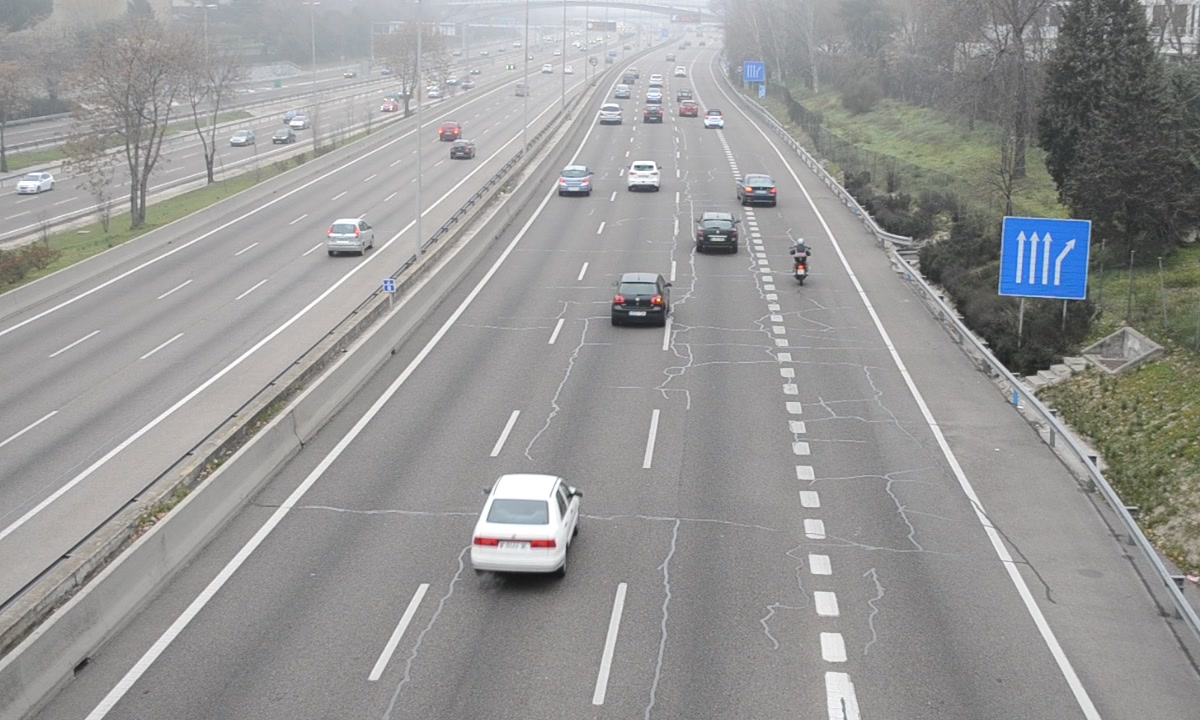car: (469, 476, 578, 572), (610, 274, 668, 325), (694, 213, 740, 254), (739, 174, 778, 209), (557, 164, 593, 195), (628, 161, 662, 191), (598, 101, 622, 125)
motorcycle: (790, 237, 812, 289)
